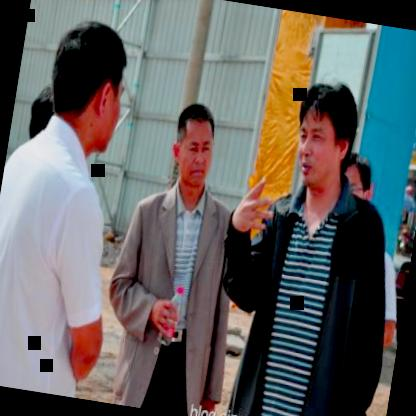head: (36, 11, 139, 164), (286, 72, 366, 204), (162, 96, 224, 198), (335, 148, 375, 208)
